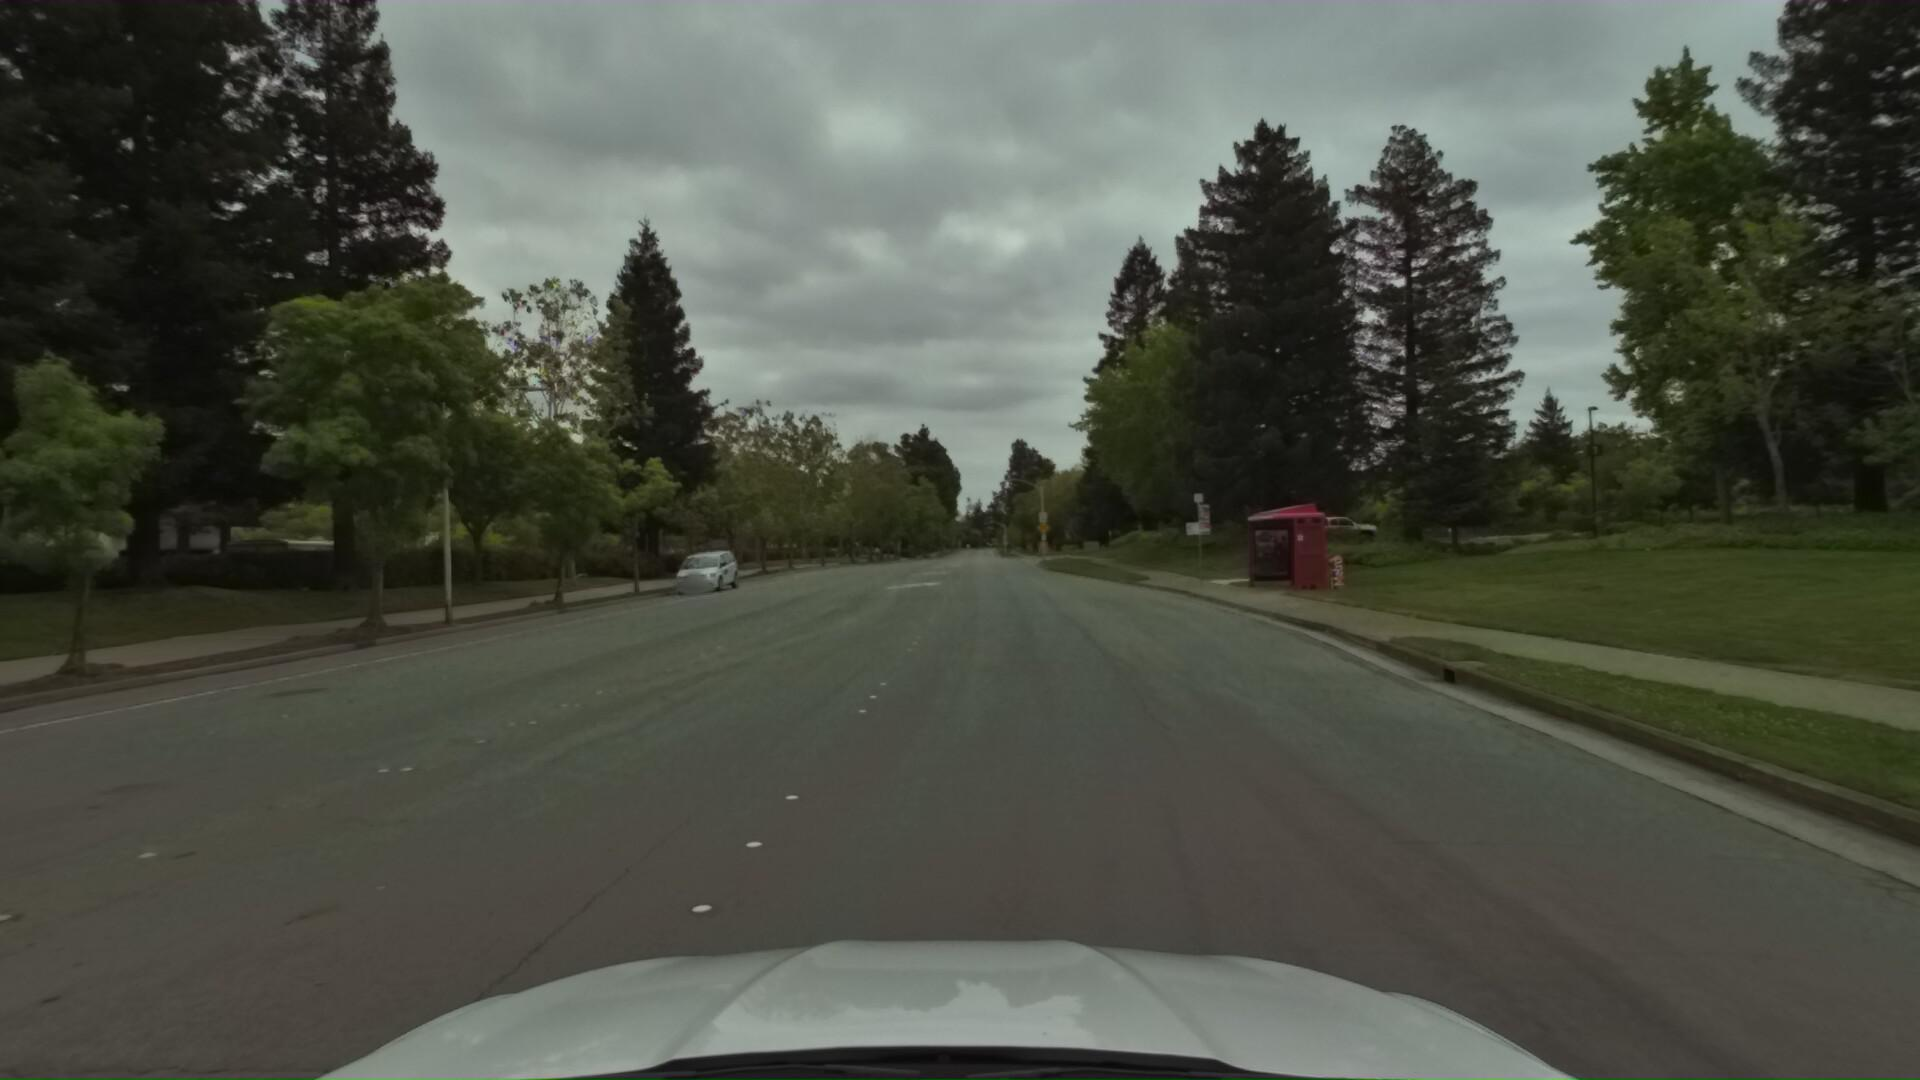car: (658, 547, 738, 599)
other_vehicle: (208, 530, 345, 599)
